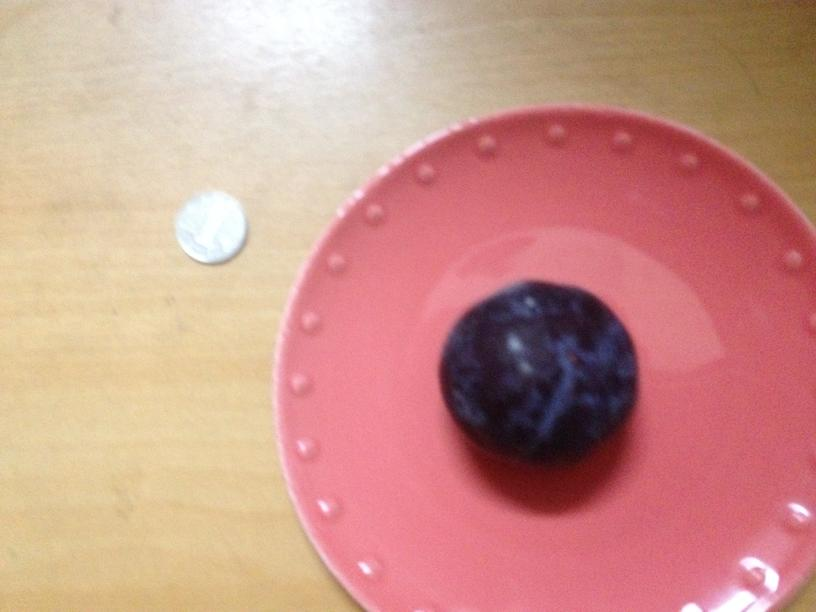coin: (173, 193, 248, 260)
plum: (446, 281, 640, 466)
